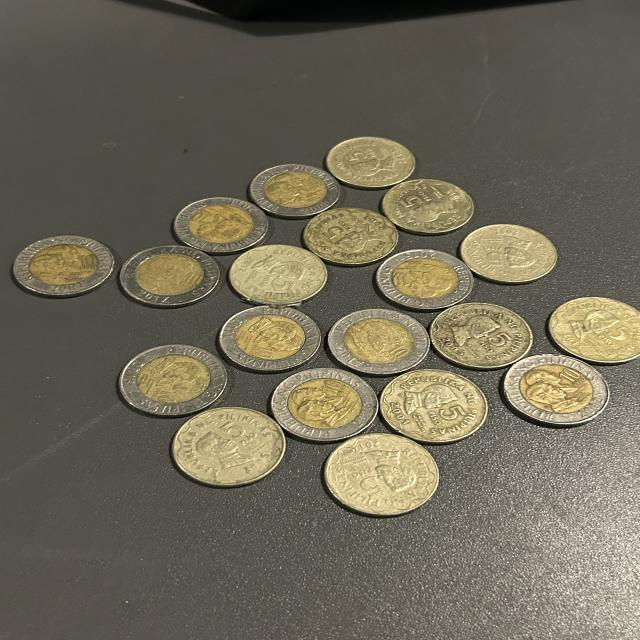10_Old_Front: (518, 365, 598, 415), (292, 380, 368, 428), (136, 358, 210, 402), (344, 318, 416, 363), (188, 204, 252, 254), (30, 244, 96, 291), (136, 256, 204, 300), (386, 257, 457, 298), (229, 320, 303, 357), (260, 173, 326, 207)
5_Old_Front: (195, 414, 276, 473), (341, 448, 425, 503), (334, 142, 416, 185), (397, 382, 472, 427), (244, 250, 310, 301), (560, 306, 640, 348), (314, 218, 390, 262), (392, 186, 458, 236), (472, 233, 541, 278), (447, 316, 512, 361)
